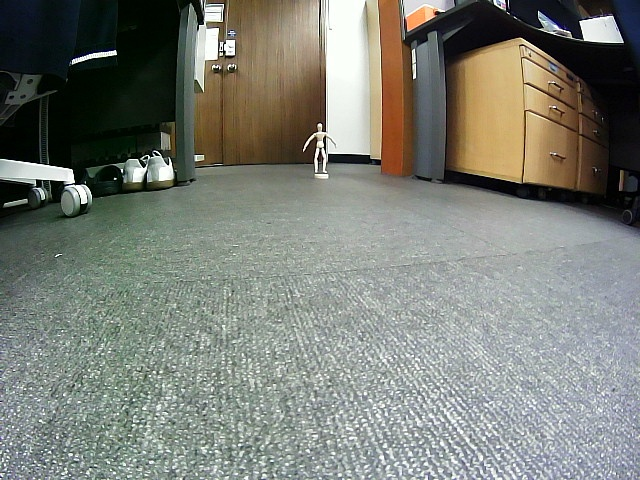person: (303, 123, 337, 173)
